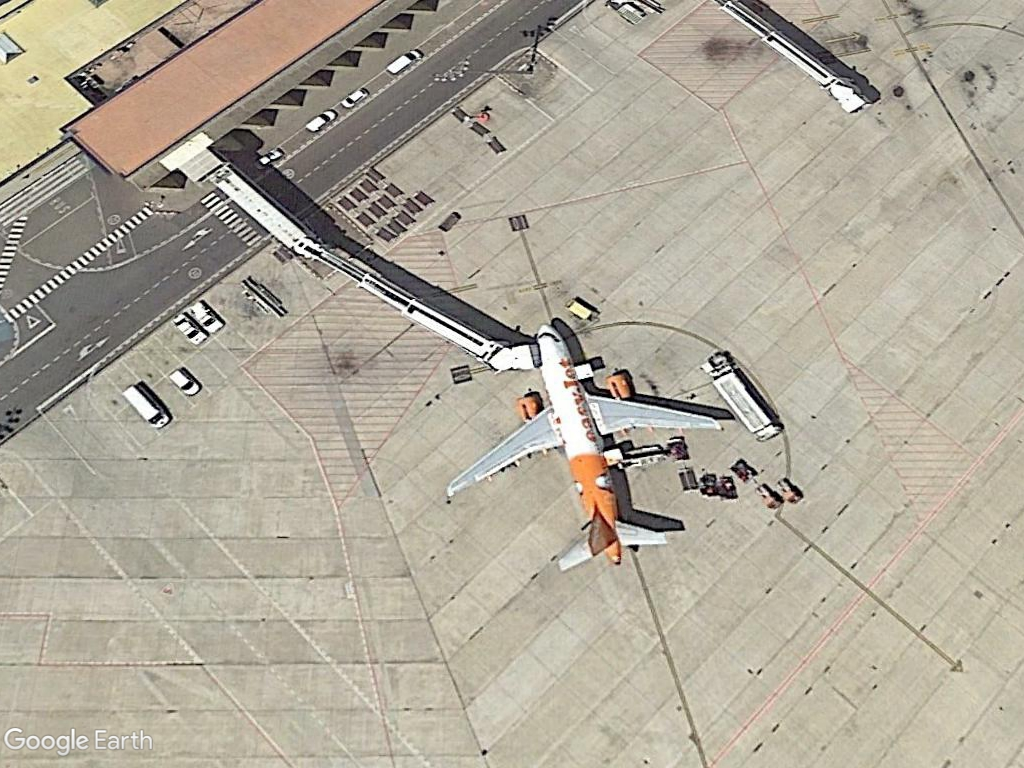airliner: (439, 313, 730, 581)
van: (118, 385, 172, 432), (164, 364, 205, 403)
